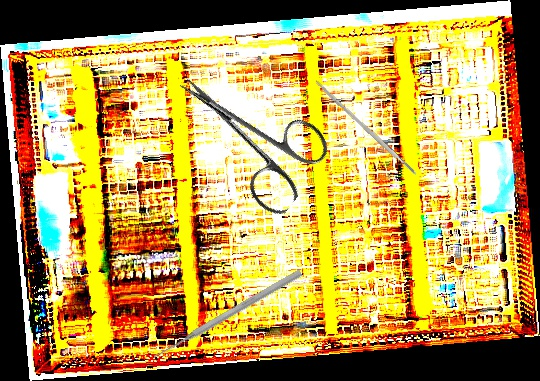Iris Scissors: (152, 45, 339, 221)
Pusher: (151, 267, 304, 362)
Scalpel Handle: (313, 79, 418, 177)
